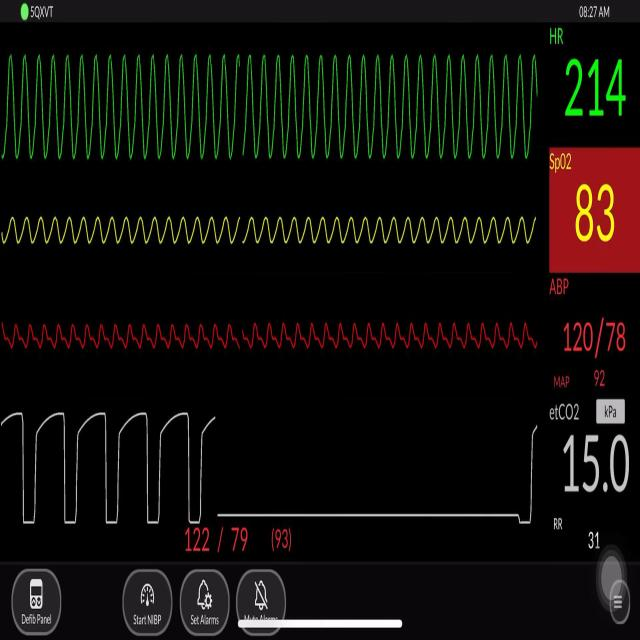danger: (4, 32, 544, 184)
